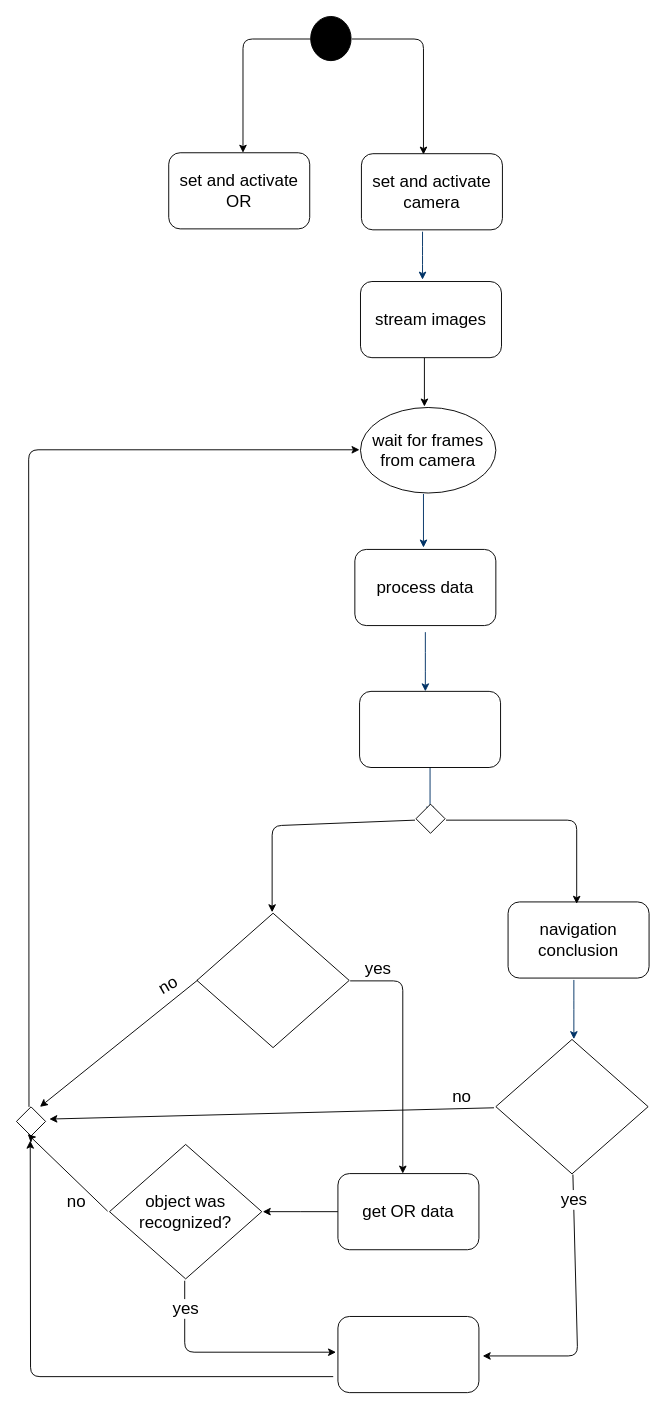
Some shapes in this 666 by 1409 pixel diagram are drawn without their labels. The shapes that lost their labels are listed below. From the top down, each one's box as (x1, y1, x2, y2) in pixels, then its label:
(359, 690, 501, 768): get obstacle map
(196, 912, 349, 1048): time to process OR?
(495, 1039, 648, 1174): obstacles in the way?
(337, 1316, 479, 1393): audio message
